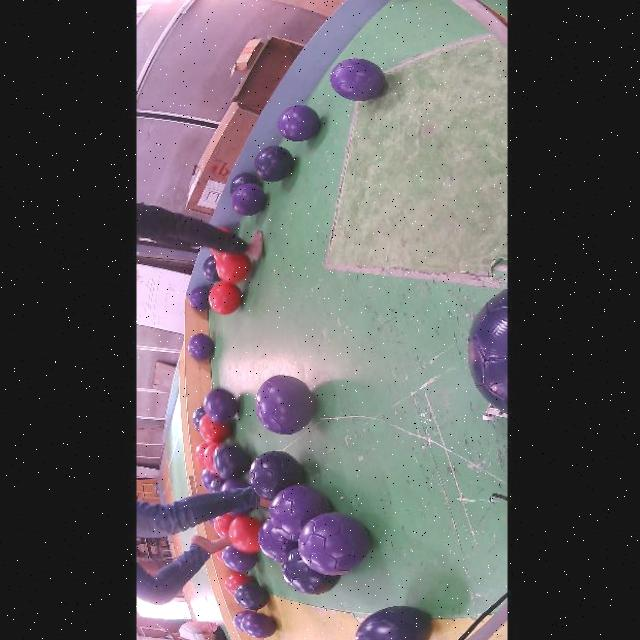B: (467, 289, 507, 421), (248, 450, 305, 499), (354, 605, 431, 640), (282, 550, 340, 595), (253, 146, 293, 182), (212, 444, 251, 480), (232, 583, 269, 610), (230, 173, 260, 194), (202, 255, 220, 283), (191, 406, 204, 431)
P: (298, 512, 369, 575), (269, 485, 331, 542), (256, 375, 314, 435), (331, 58, 384, 102), (257, 520, 297, 563), (278, 106, 320, 142), (203, 388, 238, 423), (231, 183, 265, 215), (240, 613, 276, 639), (222, 546, 257, 572), (187, 333, 213, 361), (189, 286, 209, 311), (200, 468, 217, 492), (232, 610, 250, 632), (220, 479, 248, 492), (208, 477, 223, 493)
R: (227, 515, 261, 554), (208, 281, 242, 315), (216, 252, 251, 284), (198, 415, 230, 444), (223, 573, 252, 595), (203, 443, 220, 475), (213, 514, 234, 538), (194, 441, 207, 468), (213, 550, 223, 563), (218, 227, 231, 234)
